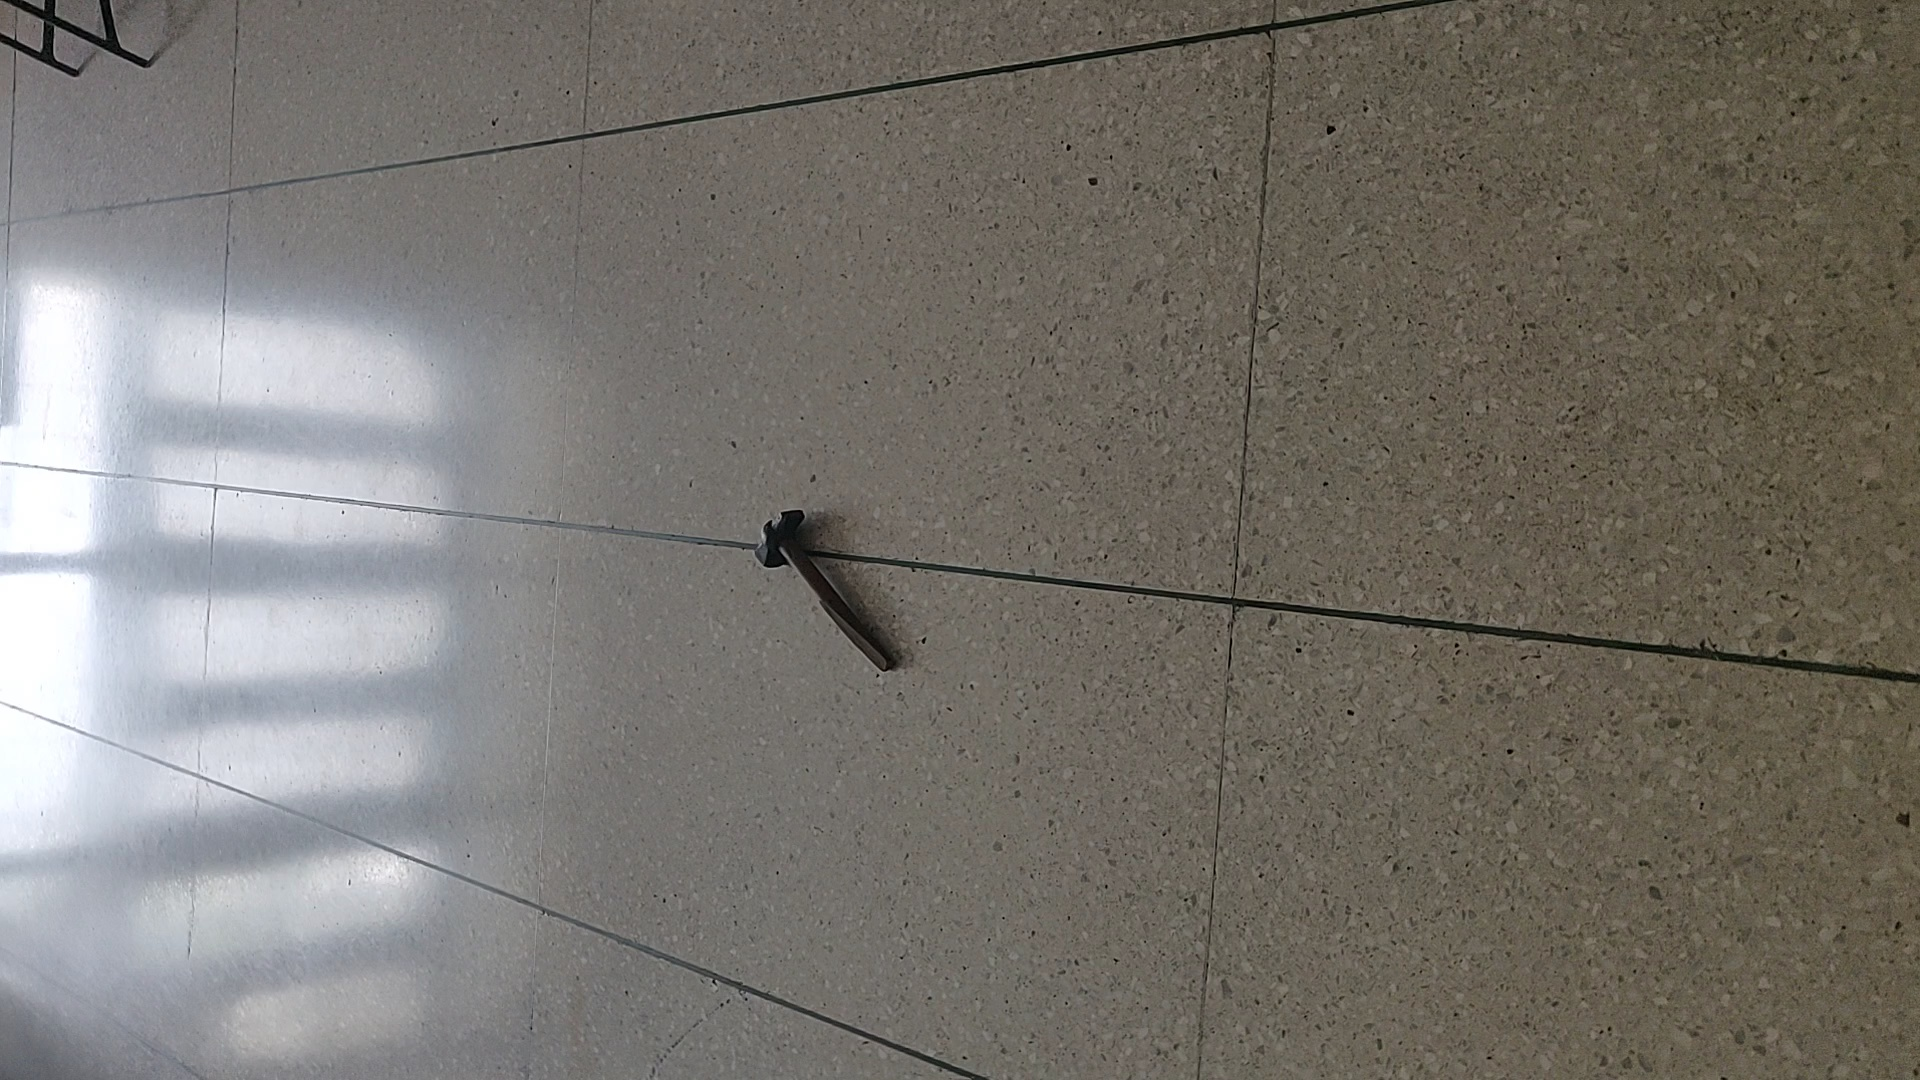hammer: (748, 506, 894, 674)
